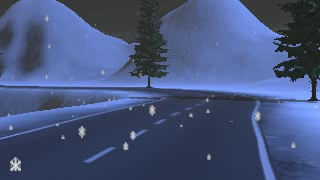Lane: (1, 85, 270, 179)
